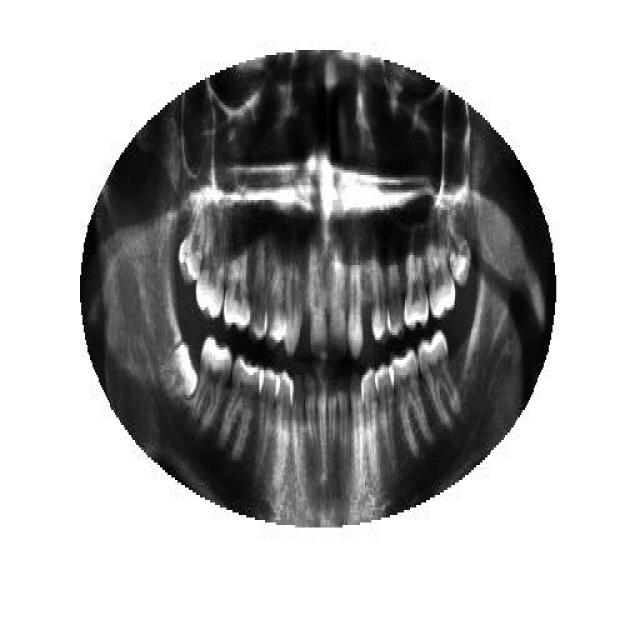Impacted Tooth: (160, 342, 199, 402)
